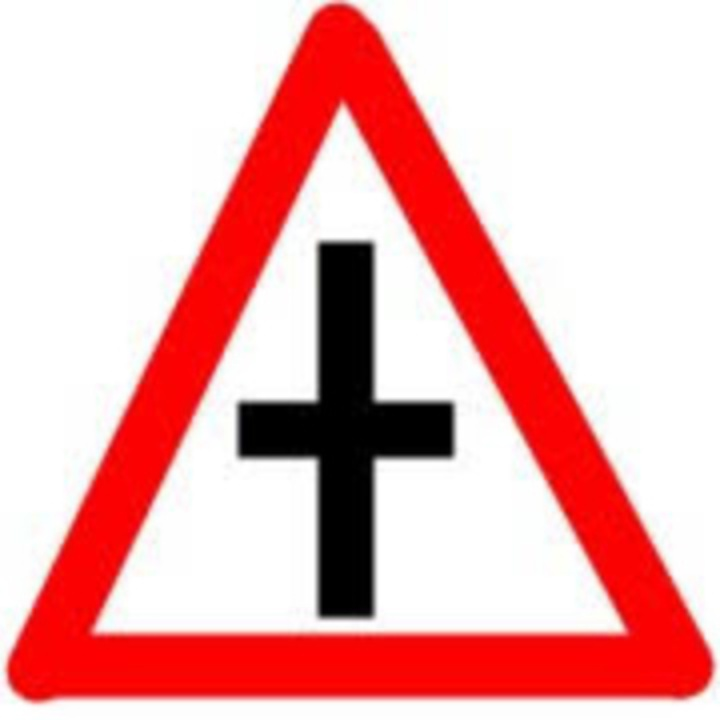Fork_road: (8, 1, 720, 710)
